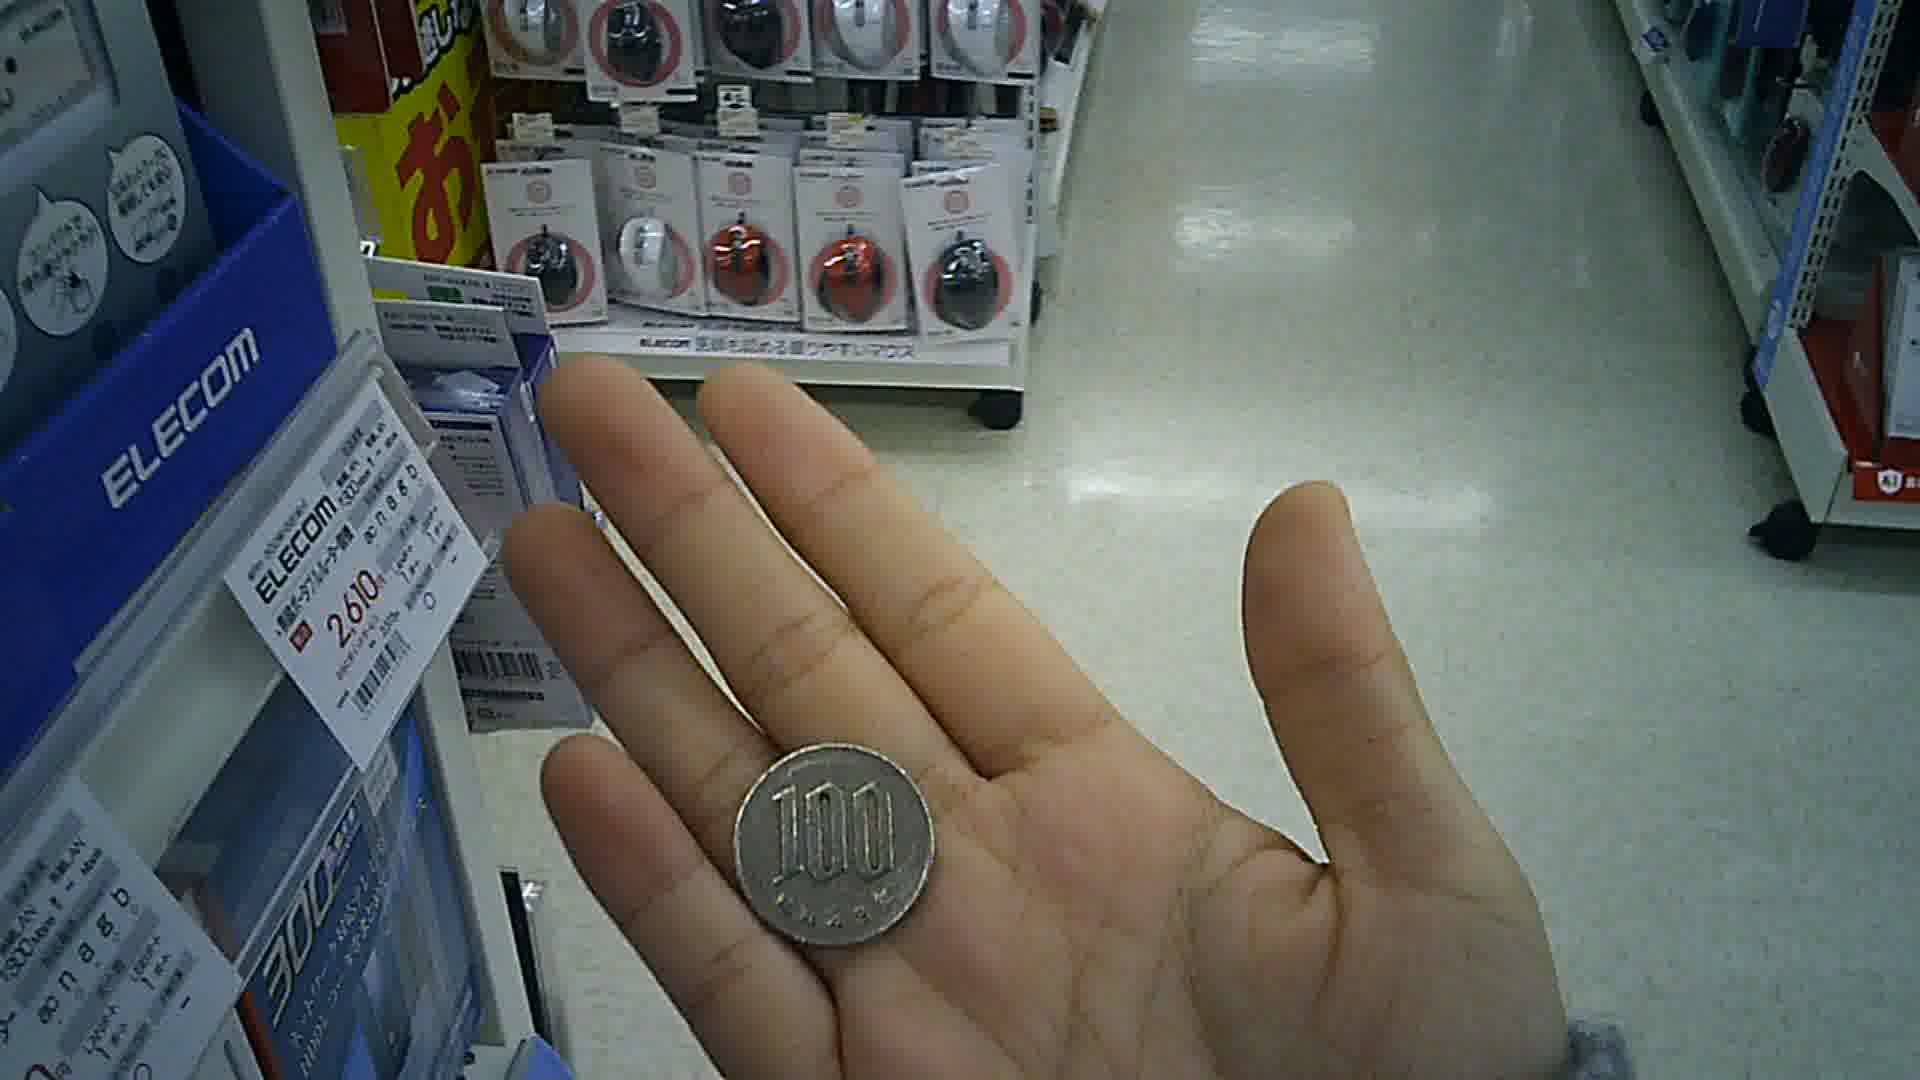100 Yen: (724, 733, 942, 953)
